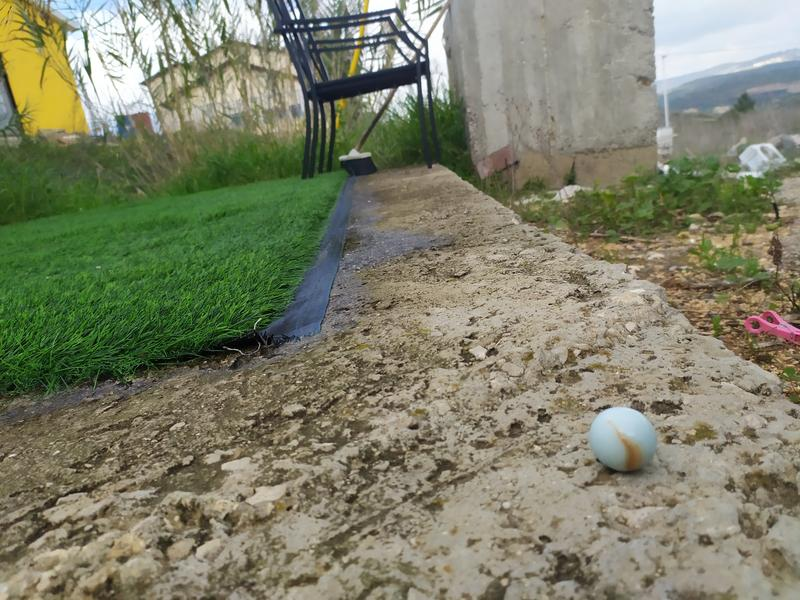Warning: (587, 403, 660, 476)
